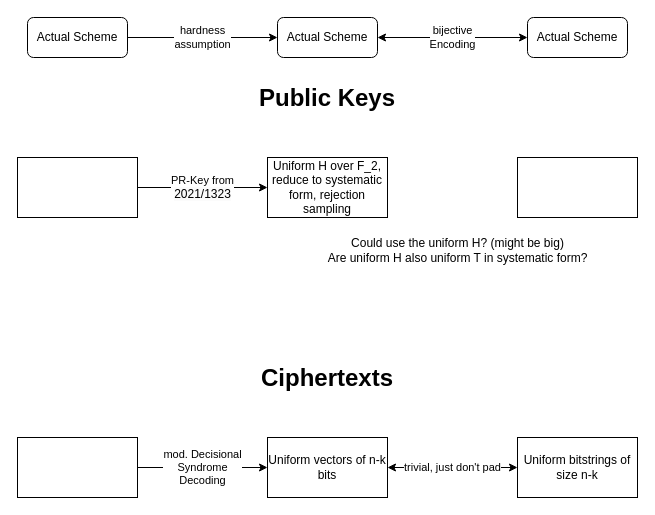
Image size: 655x515. Some labels were removed from this diagram. The centre of each missing label's shape, as x and y in pixels:
"He for some weight-t error vector" belongs at point 77,467.
"T, a parity check matrix, generating a Goppa code" belongs at point 77,187.
"Uniform bitstrings of size..." belongs at point 577,187.
